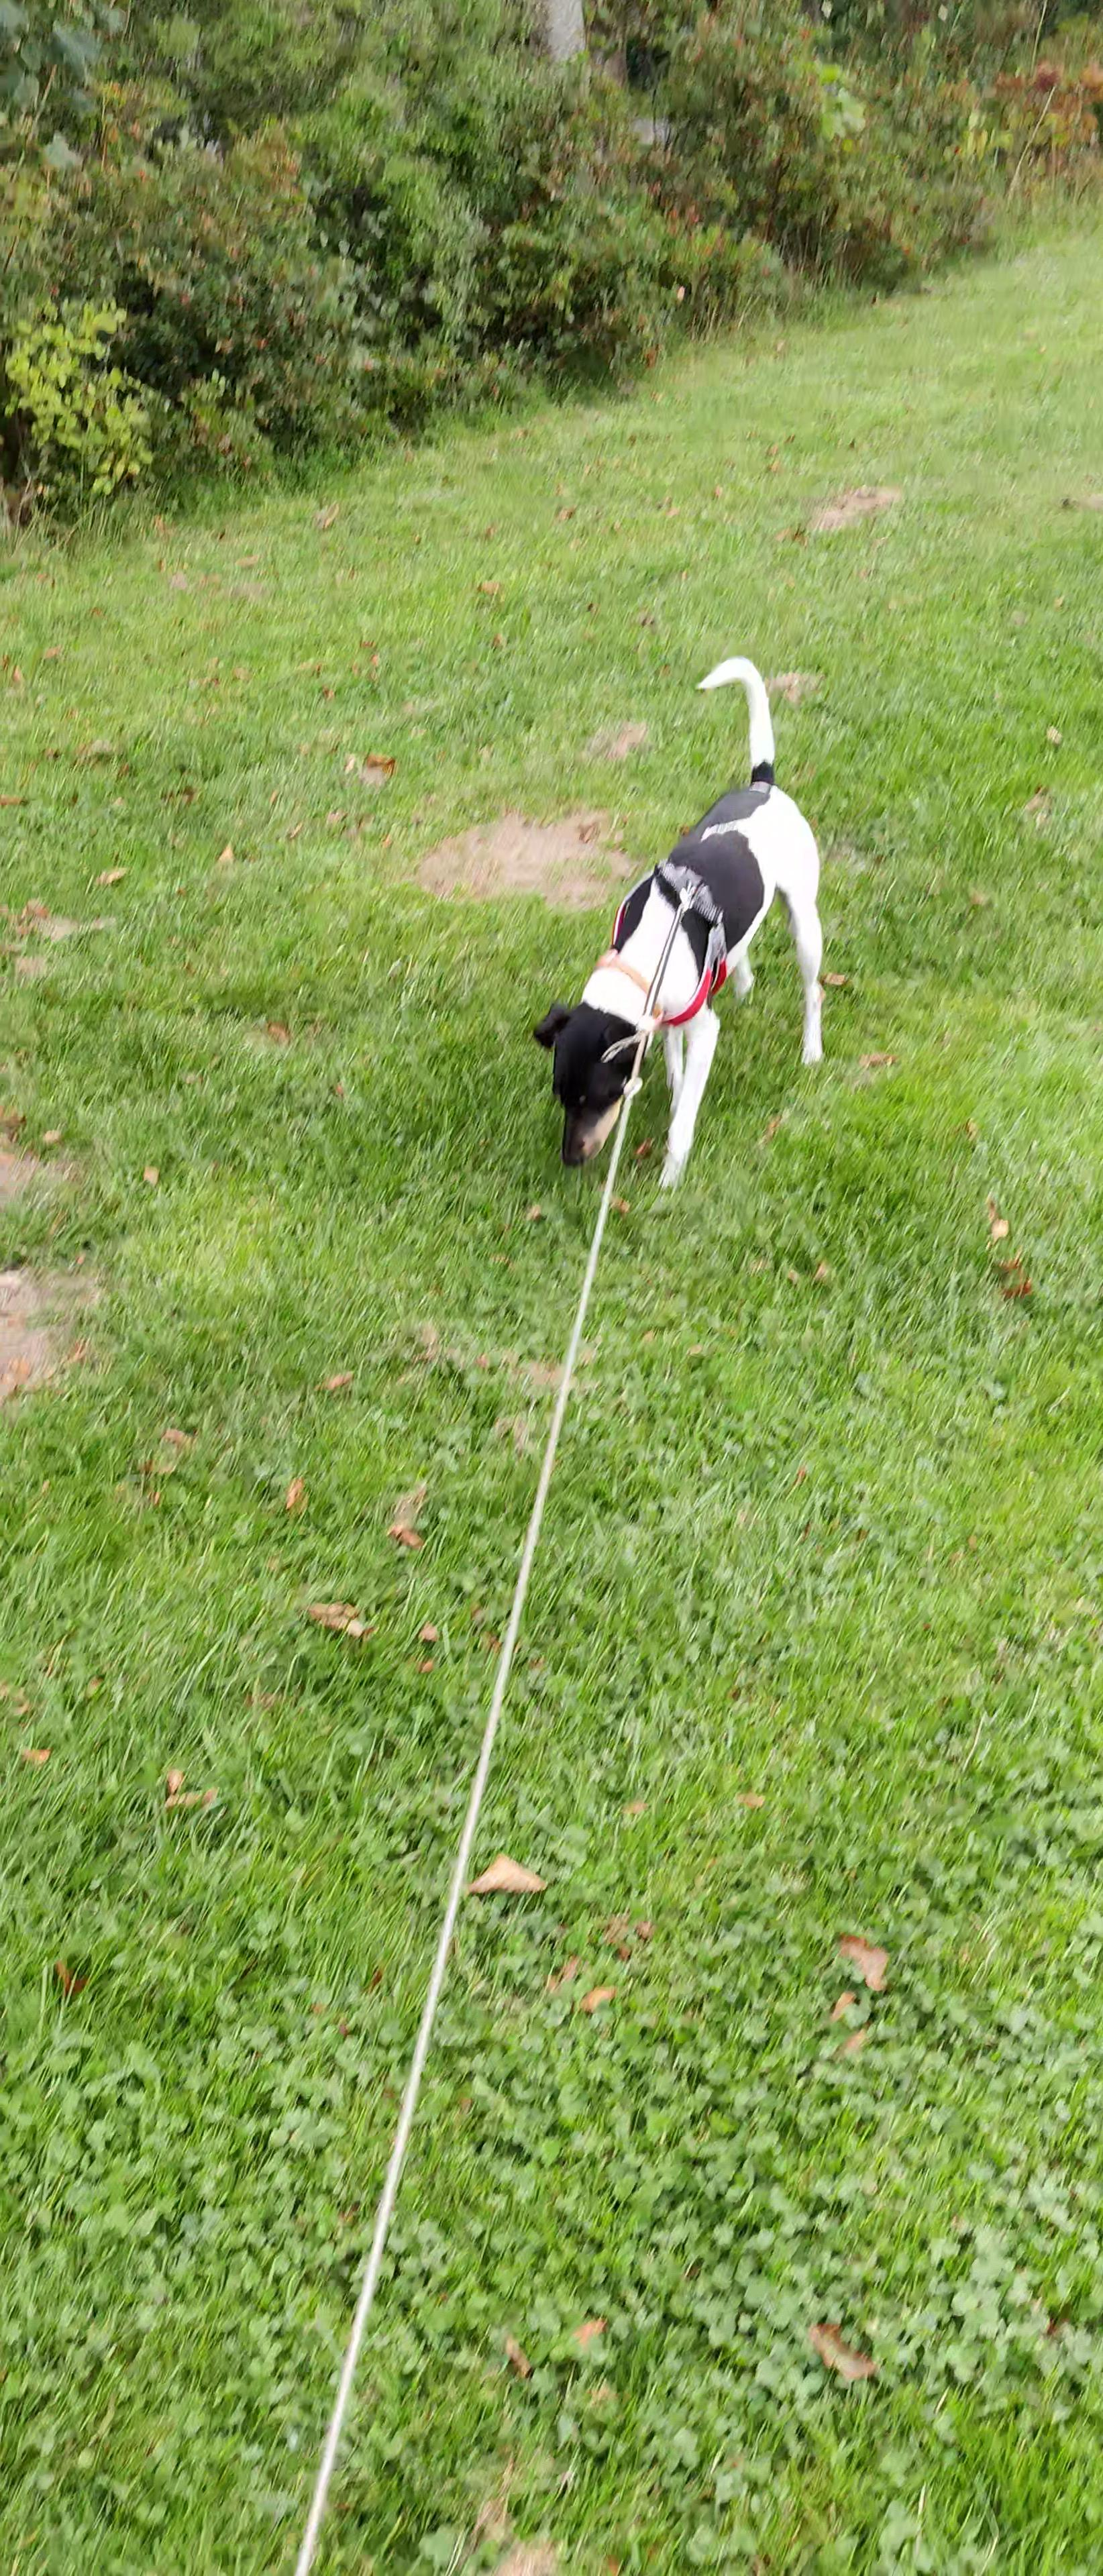Dog: (524, 651, 837, 1193)
